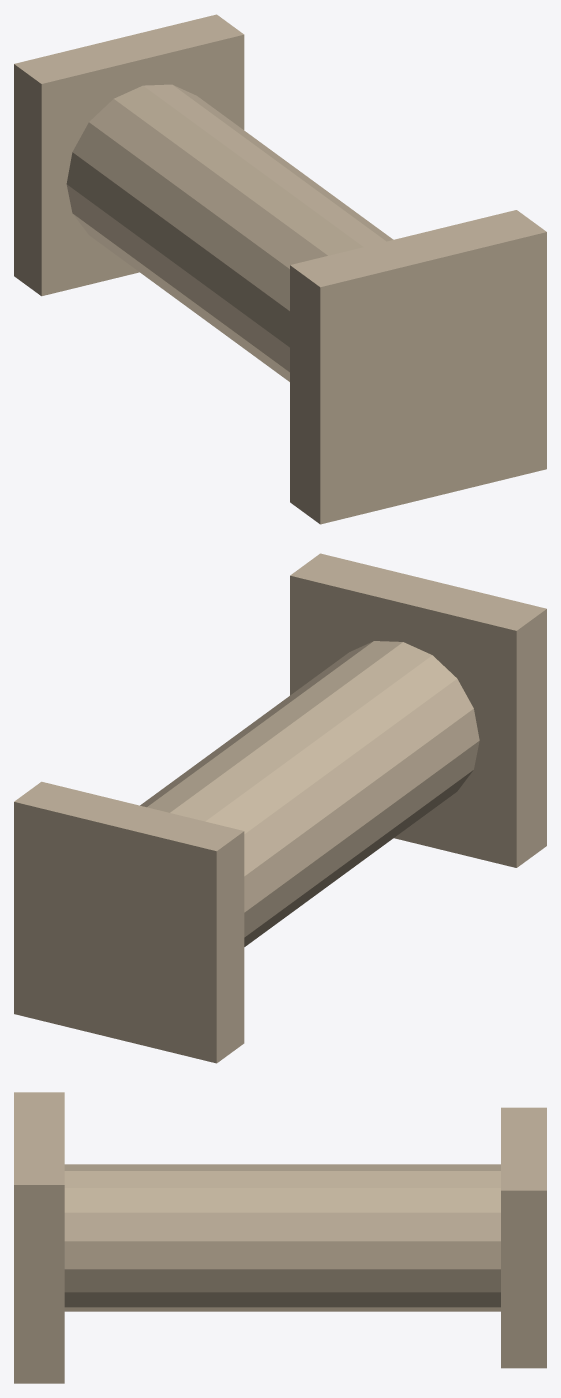
Rendered from roman_column.glb.
The picture shows the model from 3 angles, top to bottom: view 1: azimuth 30°, elevation 25°; view 2: azimuth 150°, elevation 25°; view 3: azimuth 270°, elevation 25°; orthographic projection. The views are drawn at different scales.
Parts seen in each view (by area): view 1: part_2, part_0, part_1; view 2: part_0, part_1, part_2; view 3: part_0, part_2, part_1.
Part boxes in pixels (bbox=[...]): part_2: bbox=[290, 210, 546, 524]; part_0: bbox=[66, 84, 393, 381]; part_1: bbox=[14, 14, 244, 296]; part_0: bbox=[39, 641, 479, 1013]; part_1: bbox=[14, 781, 244, 1063]; part_2: bbox=[290, 553, 546, 867]; part_0: bbox=[64, 1164, 500, 1311]; part_2: bbox=[14, 1092, 64, 1383]; part_1: bbox=[501, 1107, 546, 1368].
Size of the model in its own units: 0.95 by 0.95 by 2.31.
